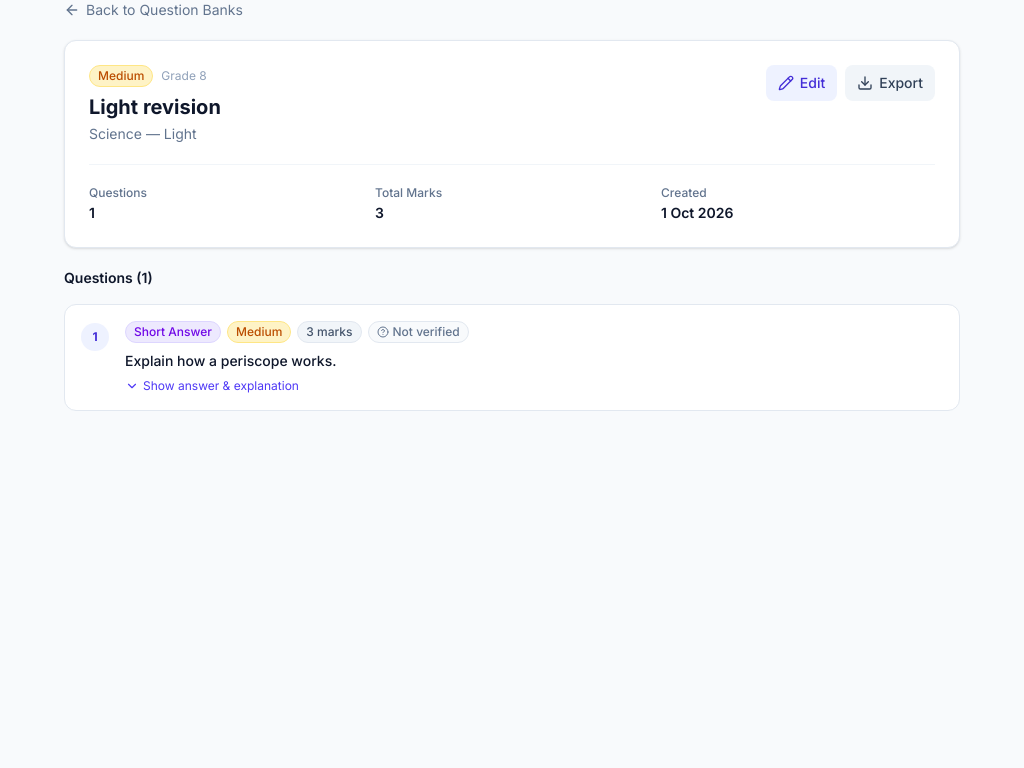
Test: editing the marks split › shows the automatic split and starts from it when you choose Edit split
Click the button "Edit" at (802, 83), box [766,65,837,101]
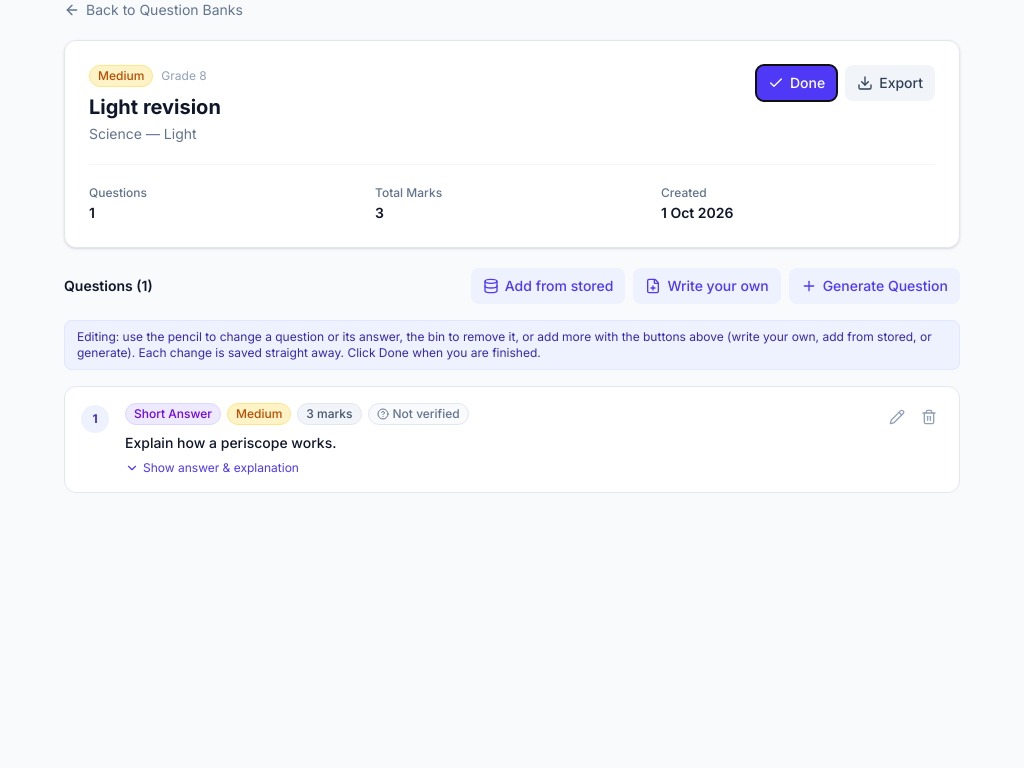
Click the button named "Edit question and answer" at (897, 417), box [883,403,911,431]
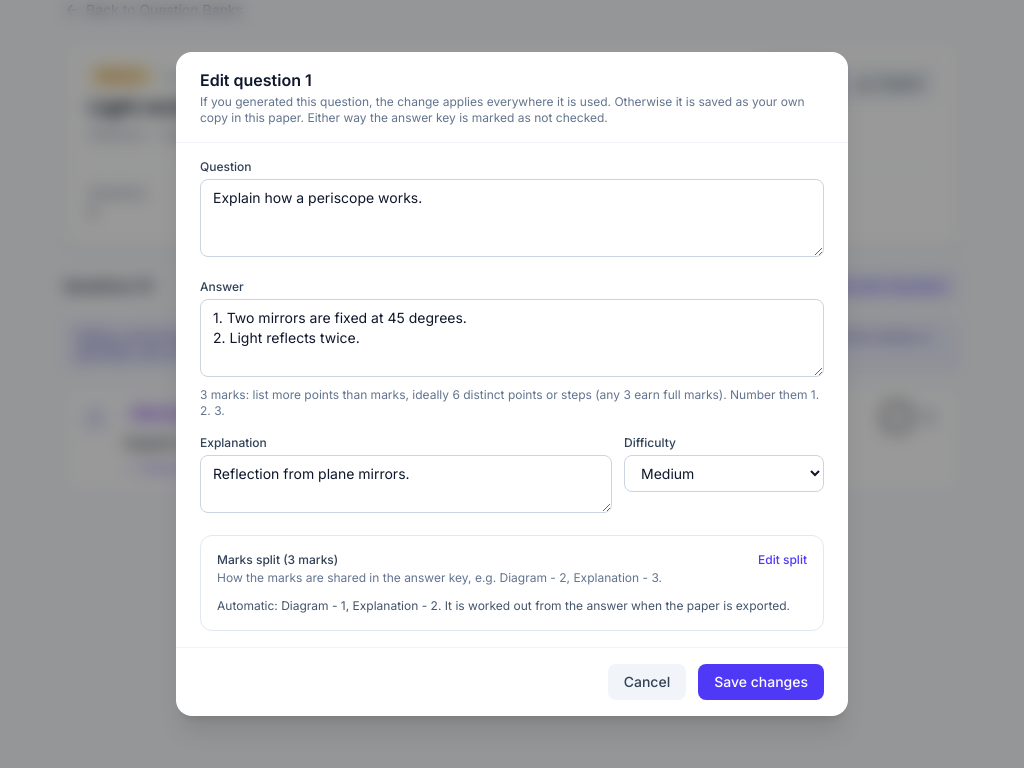
Check: the text "Automatic: Diagram - 1, Explanation - 2" is shown, box [217,598,807,614]
Click the button "Edit split" at (782, 560), box [758,552,807,568]
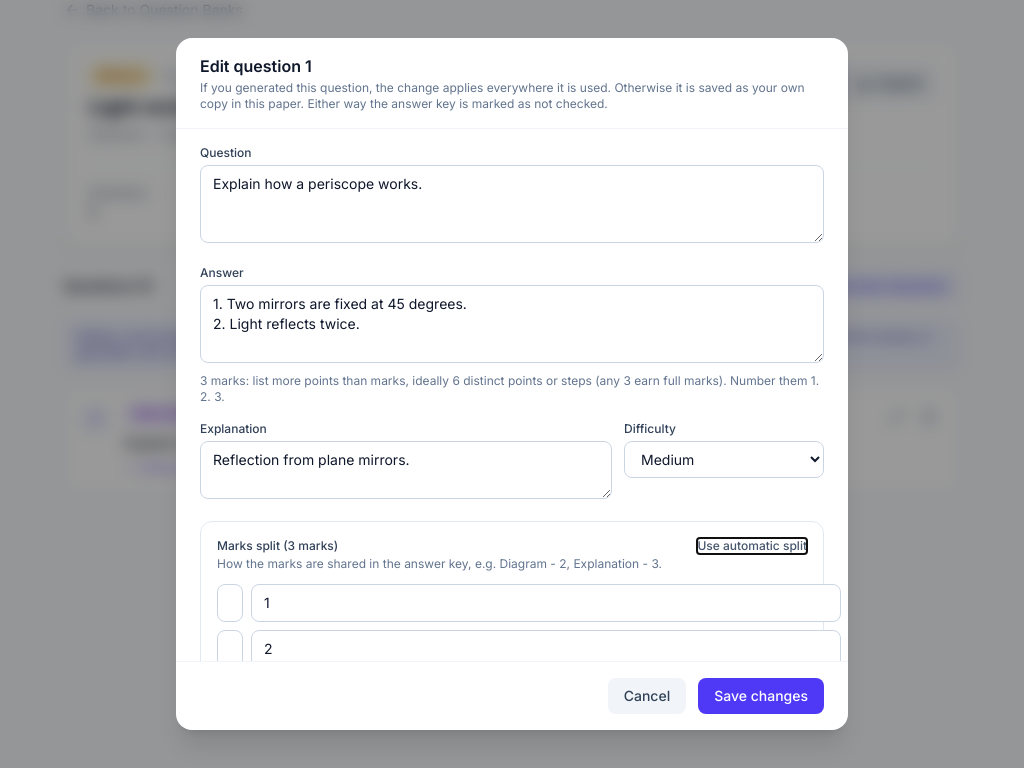
Check: the field named "Marks split part 1 name" holds "Diagram", box [217,584,243,622]
Check: the number field named "Marks split part 2 marks" holds "2", box [251,630,841,661]
